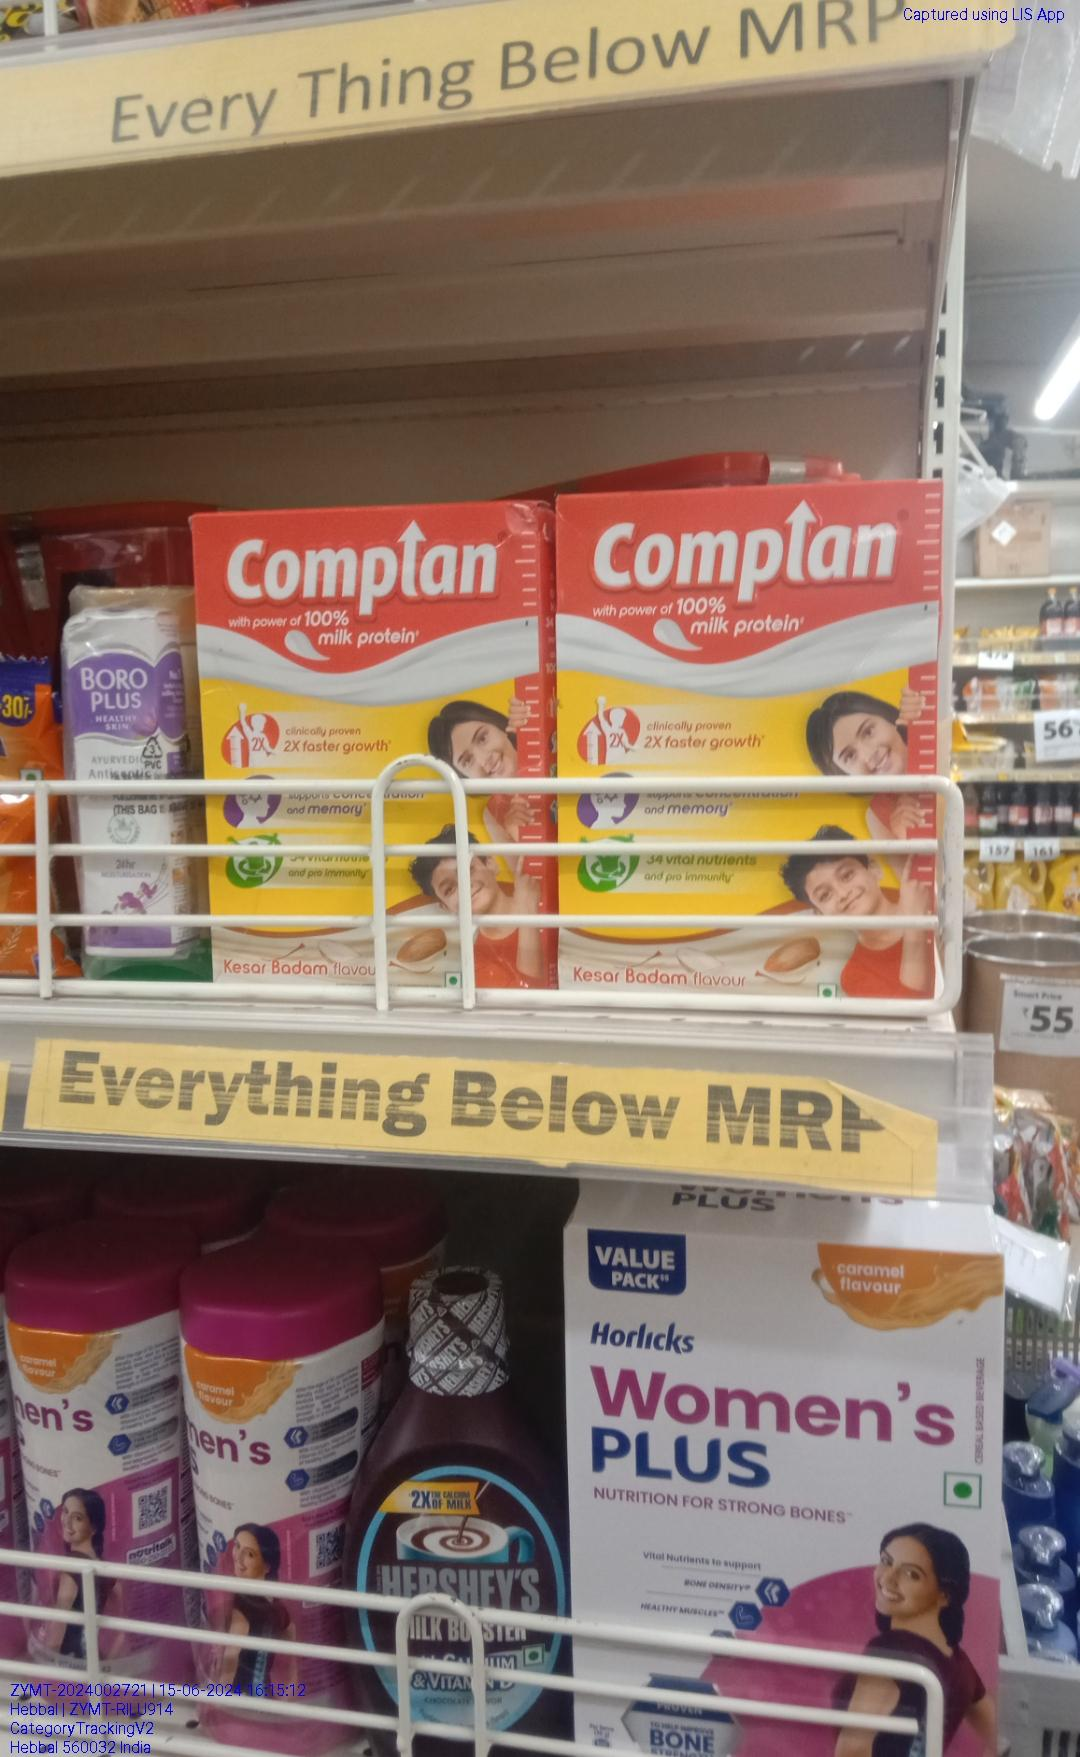COMPLAN_KESAR_BADAM_500_GMS_PACK: (562, 484, 943, 1014), (196, 517, 542, 985)
